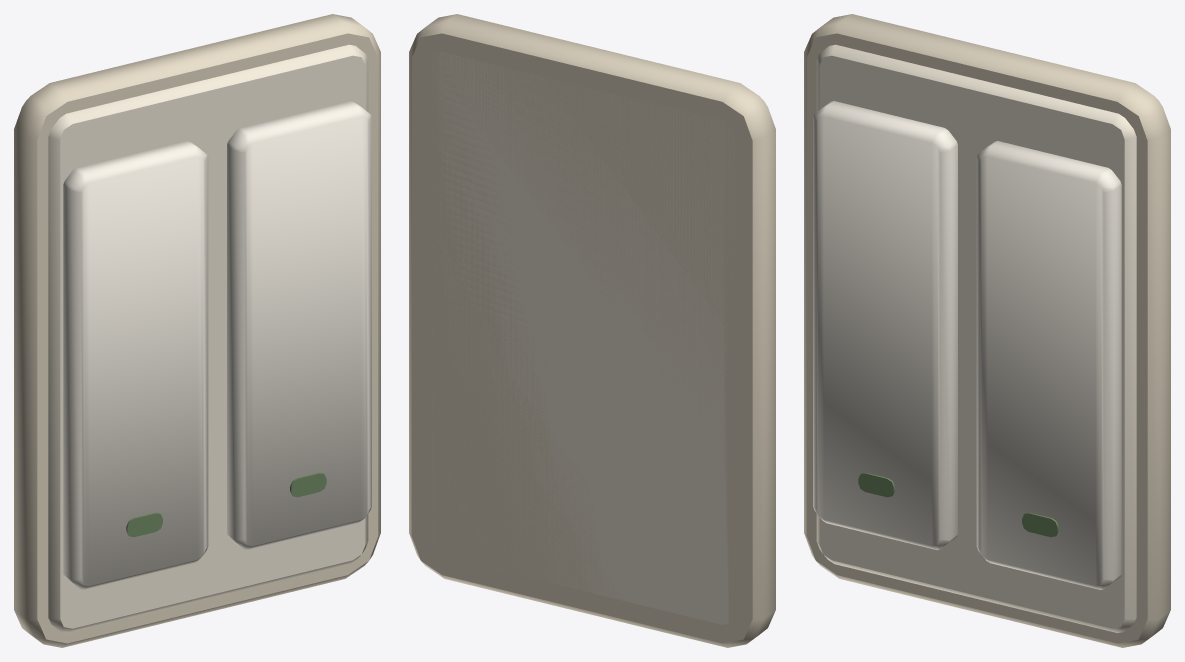
The model's file is lightswitch-double.glb.
The picture shows the model from 3 angles, left to right: view 1: azimuth 30°, elevation 25°; view 2: azimuth 150°, elevation 25°; view 3: azimuth 330°, elevation 25°; orthographic projection.
Parts seen in each view (by area): view 1: SwitchPlate, SwitchRocker0, SwitchRocker1, SwitchLamp1, SwitchLamp0; view 2: SwitchPlate; view 3: SwitchPlate, SwitchRocker1, SwitchRocker0, SwitchLamp0, SwitchLamp1.
Boxes of the visible parts, left/top/right/bottom form: SwitchPlate: left=14, top=14, right=380, bottom=647; SwitchRocker0: left=63, top=141, right=208, bottom=589; SwitchRocker1: left=227, top=101, right=371, bottom=550; SwitchLamp1: left=290, top=472, right=326, bottom=497; SwitchLamp0: left=126, top=512, right=162, bottom=537; SwitchPlate: left=409, top=14, right=775, bottom=647; SwitchPlate: left=804, top=14, right=1170, bottom=647; SwitchRocker1: left=976, top=141, right=1121, bottom=589; SwitchRocker0: left=813, top=101, right=957, bottom=550; SwitchLamp0: left=858, top=472, right=894, bottom=497; SwitchLamp1: left=1022, top=512, right=1058, bottom=537.
Bounding box in the file's own units: 0.08 × 0.12 × 0.0156.
